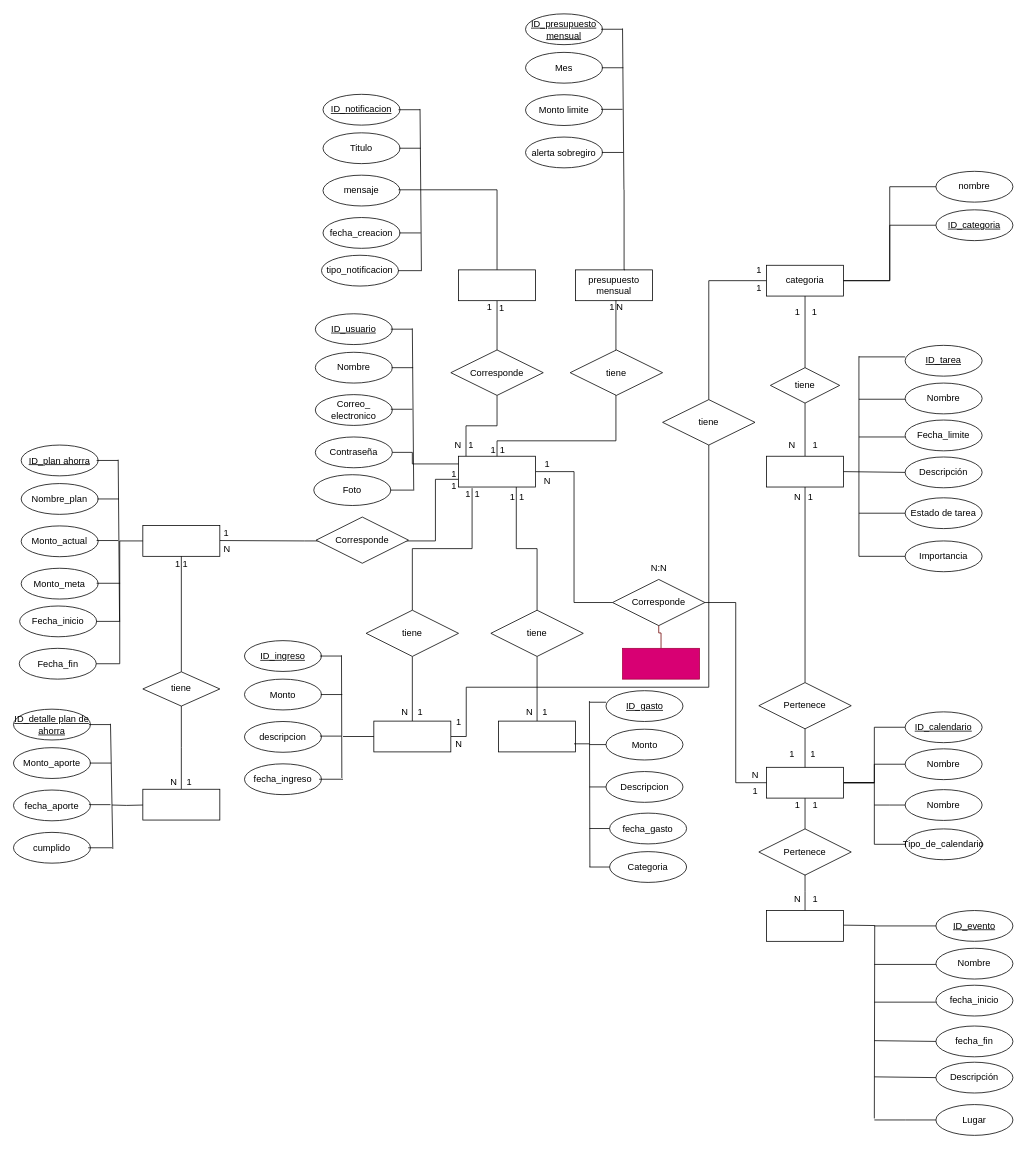
Image size: 1026x1149. Some labels were removed from this diagram. Each missing label, with the centre of its shape:
Calendario: the point at 805,782
detalle plan de ahorra: the point at 181,804
Evento: the point at 805,925
Gasto: the point at 537,736
Ingreso: the point at 412,736
Notificacion: the point at 497,285
Permiso: the point at 661,663
plan de ahorra: the point at 181,540
Tarea: the point at 805,471
Usuario: the point at 497,471
